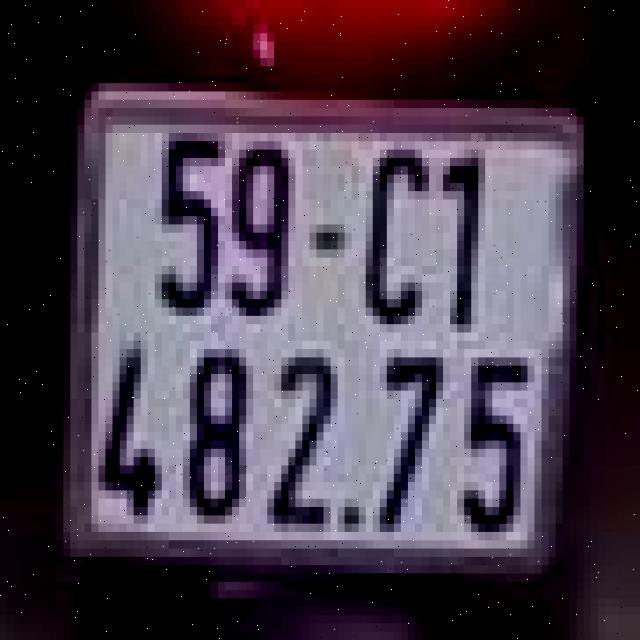1: (439, 125, 503, 332)
2: (264, 324, 341, 532)
4: (91, 328, 169, 528)
5: (454, 349, 531, 540), (155, 108, 218, 324)
7: (359, 332, 450, 548)
8: (176, 320, 246, 536)
9: (228, 125, 292, 316)
C: (359, 137, 429, 320)
